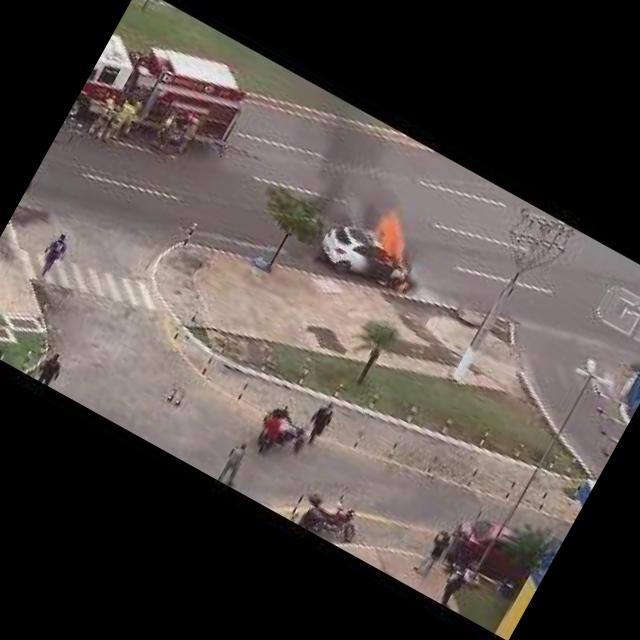fire: (364, 206, 424, 266), (394, 278, 408, 294)
smoke: (280, 104, 414, 242)
